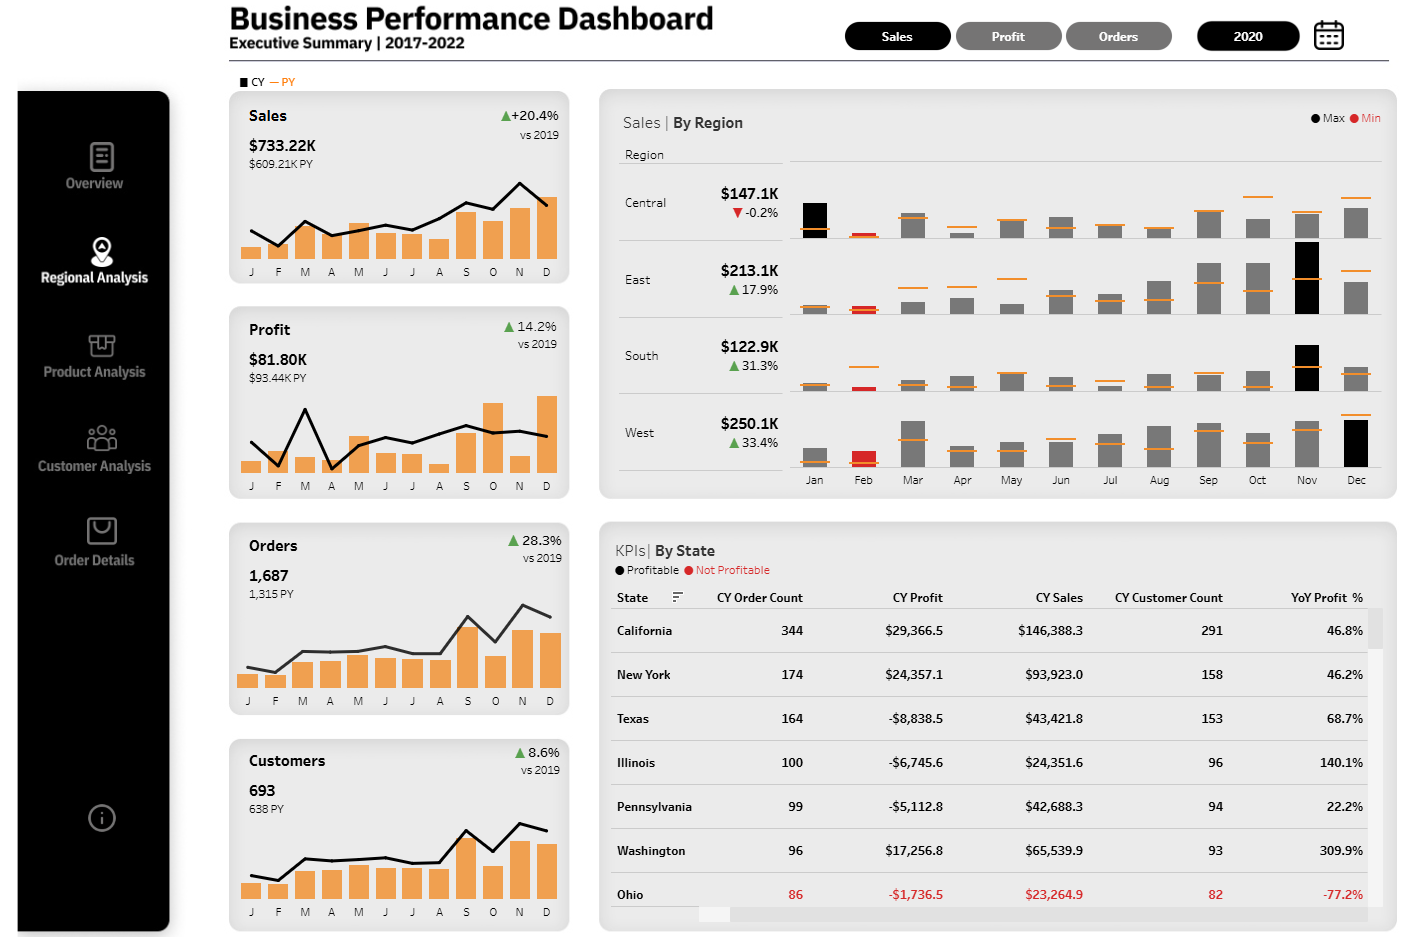

The dashboard page shown, as its layout file describes it:
{"tool":"tableau","page":{"name":"Regional Analysis","canvas":[1440,1024],"ordinal":4},"visuals":[{"type":"image","param":"Image/Dashboard BG-1.png","box":[0,0,1440,1024]},{"type":"worksheet","title":"Metric Button","mark":"Shape","cols":["Calculation_340584768144658440","Calculation_340584768144658440","Calculation_340584768144658440"],"box":[827,44,340,62]},{"type":"worksheet","title":"Year Button","mark":"Shape","cols":["Calculation_340584768144658440"],"box":[1167,44,140,62]},{"type":"dashboard-object","box":[1302,59,30,30]},{"type":"parameter","param":"[Parameters].[Parameter 1]","box":[1304,88,118,54]},{"type":"text","box":[226,107,100,26]},{"type":"worksheet","title":"Sales Card","mark":"Automatic","box":[233,137,155,75]},{"type":"worksheet","title":"Region Card","mark":"Automatic","rows":["Region"],"box":[603,140,176,374]},{"type":"worksheet","title":"YoY Sales % ","mark":"Automatic","box":[442,144,116,57]},{"type":"text","box":[1284,145,85,21]},{"type":"dashboard-object","box":[75,183,30,30]},{"type":"worksheet","title":"Region and Monthly","mark":"Bar","rows":["Region","Calculation_1896859912208703498","CY Metric Swap  (copy)_1896859912209924107"],"cols":["Order Date"],"box":[774,196,600,338]},{"type":"worksheet","title":"Sales Chart","mark":"Automatic","rows":["CY Sales (copy)_1896859912200220675","Calculation_1896859912199979010"],"cols":["Order Date"],"box":[222,213,330,110]},{"type":"image","param":"Image/gps (2).png","box":[75,276,30,30]},{"type":"worksheet","title":"Profit Card","mark":"Automatic","box":[233,350,155,75]},{"type":"worksheet","title":"YoY Profit %","mark":"Automatic","box":[442,355,116,57]},{"type":"dashboard-object","box":[75,369,30,30]},{"type":"worksheet","title":"Profit Chart","mark":"Bar","rows":["PY Sales  (copy)_1896859912201674757","CY Sales (copy)_1896859912201572356"],"cols":["Order Date"],"box":[222,427,330,110]},{"type":"dashboard-object","box":[75,462,30,30]},{"type":"dashboard-object","box":[75,555,30,30]},{"type":"worksheet","title":"Orders Card","mark":"Automatic","box":[233,563,155,75]},{"type":"worksheet","title":"KPIs by States","mark":"Automatic","rows":["State"],"box":[595,567,780,398]},{"type":"worksheet","title":"YoY Orders %","mark":"Automatic","box":[442,568,116,57]},{"type":"worksheet","title":"Orders Chart","mark":"Bar","rows":["CY Orders (copy)_1896859912203137031","CY Profit (copy)_1896859912202817542"],"cols":["Order Date"],"box":[222,638,330,110]},{"type":"text","box":[111,768,402,134]},{"type":"worksheet","title":"Customers Card","mark":"Automatic","box":[233,775,155,75]},{"type":"worksheet","title":"YoY Customers %","mark":"Automatic","box":[442,781,116,57]},{"type":"dashboard-object","box":[75,842,30,30]},{"type":"worksheet","title":"Customers Chart","mark":"Bar","rows":["CY Customers (copy)_1896859912206483465","CY Profit (copy)_1896859912206348296"],"cols":["Order Date"],"box":[222,853,330,110]}]}

Visuals, with their boxes on the page's 1440x1024 design canvas (x1, y1, x2, y2). These are canvas units, not pixel positions in the 1414x937 screenshot, which may show the page scaled, cropped or inside an application window:
image: [0, 0, 1440, 1024]
"Metric Button" worksheet (Shape marks): [827, 44, 1167, 106]
"Year Button" worksheet (Shape marks): [1167, 44, 1307, 106]
dashboard-object: [1302, 59, 1332, 89]
parameter: [1304, 88, 1422, 142]
text: [226, 107, 326, 133]
"Sales Card" worksheet: [233, 137, 388, 212]
"Region Card" worksheet: [603, 140, 779, 514]
"YoY Sales % " worksheet: [442, 144, 558, 201]
text: [1284, 145, 1369, 166]
dashboard-object: [75, 183, 105, 213]
"Region and Monthly" worksheet (Bar marks): [774, 196, 1374, 534]
"Sales Chart" worksheet: [222, 213, 552, 323]
image: [75, 276, 105, 306]
"Profit Card" worksheet: [233, 350, 388, 425]
"YoY Profit %" worksheet: [442, 355, 558, 412]
dashboard-object: [75, 369, 105, 399]
"Profit Chart" worksheet (Bar marks): [222, 427, 552, 537]
dashboard-object: [75, 462, 105, 492]
dashboard-object: [75, 555, 105, 585]
"Orders Card" worksheet: [233, 563, 388, 638]
"KPIs by States" worksheet: [595, 567, 1375, 965]
"YoY Orders %" worksheet: [442, 568, 558, 625]
"Orders Chart" worksheet (Bar marks): [222, 638, 552, 748]
text: [111, 768, 513, 902]
"Customers Card" worksheet: [233, 775, 388, 850]
"YoY Customers %" worksheet: [442, 781, 558, 838]
dashboard-object: [75, 842, 105, 872]
"Customers Chart" worksheet (Bar marks): [222, 853, 552, 963]
